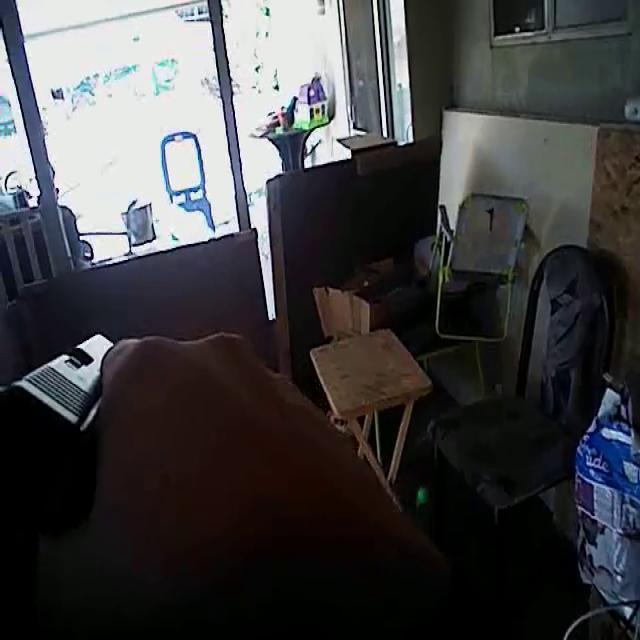gun: (2, 298, 140, 564)
